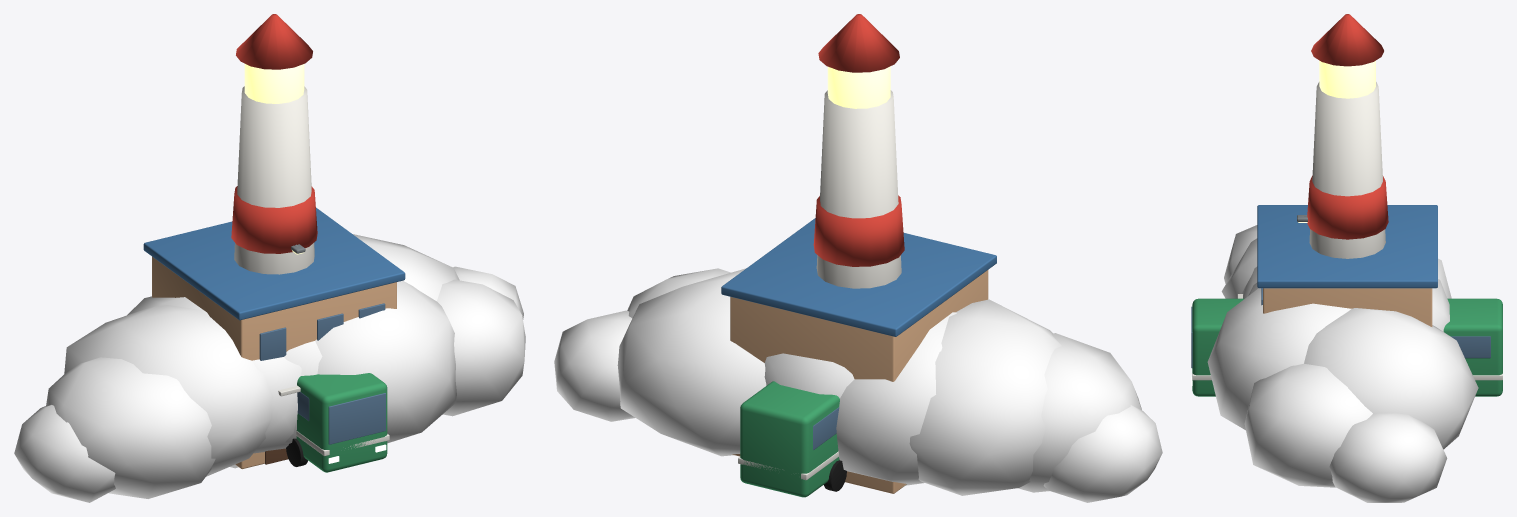
File: Props.fbx
The picture shows the model from 3 angles, left to right: view 1: azimuth 30°, elevation 25°; view 2: azimuth 150°, elevation 25°; view 3: azimuth 270°, elevation 25°; orthographic projection. The views are drawn at different scales.
Parts seen in each view (by area): view 1: Cloud, House_B, Lighthouse, Bus; view 2: Cloud, House_B, Lighthouse, Bus; view 3: Cloud, Lighthouse, House_B, Bus.
Boxes of the visible parts, bbox=[...] form: Cloud: bbox=[14, 234, 525, 502]; House_B: bbox=[143, 207, 405, 469]; Lighthouse: bbox=[231, 14, 317, 274]; Bus: bbox=[286, 373, 389, 472]; Cloud: bbox=[554, 268, 1162, 502]; House_B: bbox=[721, 218, 996, 493]; Lighthouse: bbox=[813, 14, 904, 288]; Bus: bbox=[738, 381, 846, 497]; Cloud: bbox=[1207, 225, 1478, 502]; Lighthouse: bbox=[1307, 14, 1388, 258]; House_B: bbox=[1237, 205, 1437, 326]; Bus: bbox=[1191, 298, 1502, 396].
Size of the model in its own units: 20.24 by 15.76 by 11.05.
